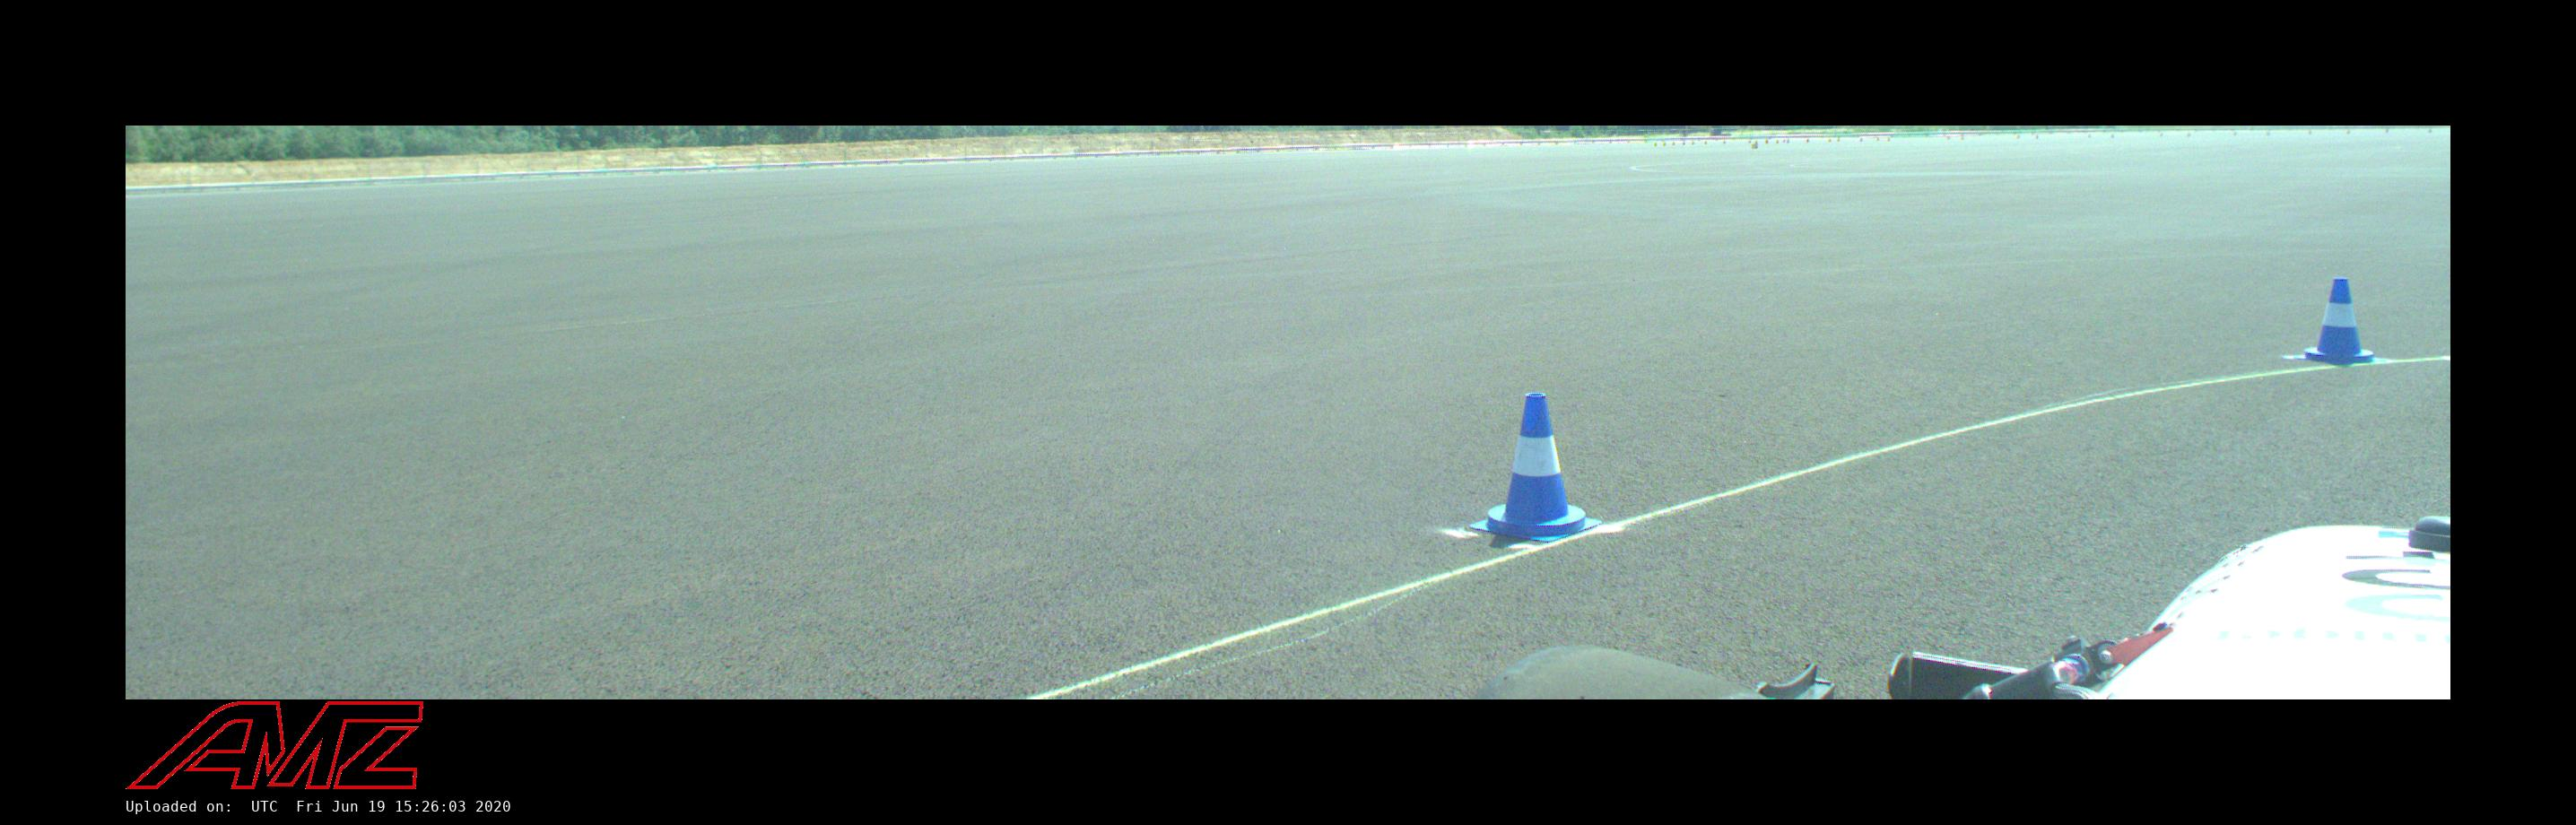blue_cone: (1475, 396, 1599, 539), (2295, 278, 2384, 362)
